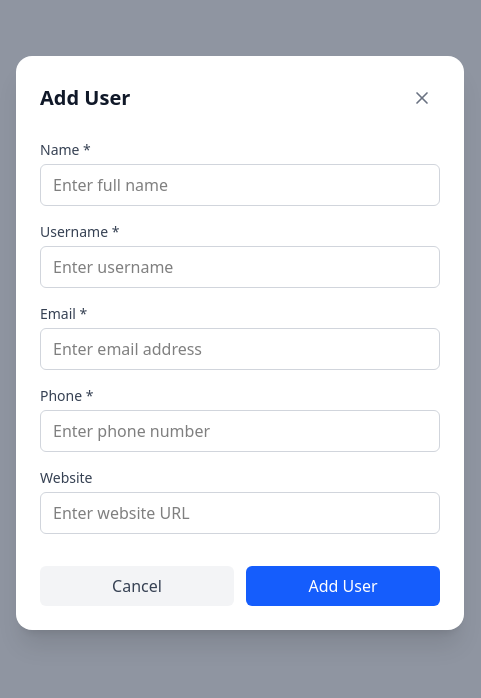
Scenario: UserForm › shows validation errors when required fields are empty
Step 1. Click the button with test id "submit-button" → click(343, 586), box [246, 566, 440, 606]
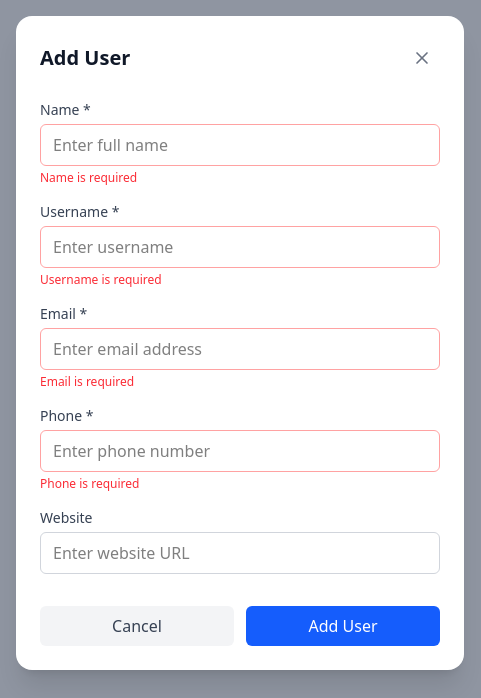
Result: the text "Name is required" is shown at [40, 169, 137, 186]
Result: the text "Username is required" is shown at [40, 271, 162, 288]
Result: the text "Email is required" is shown at [40, 373, 134, 390]
